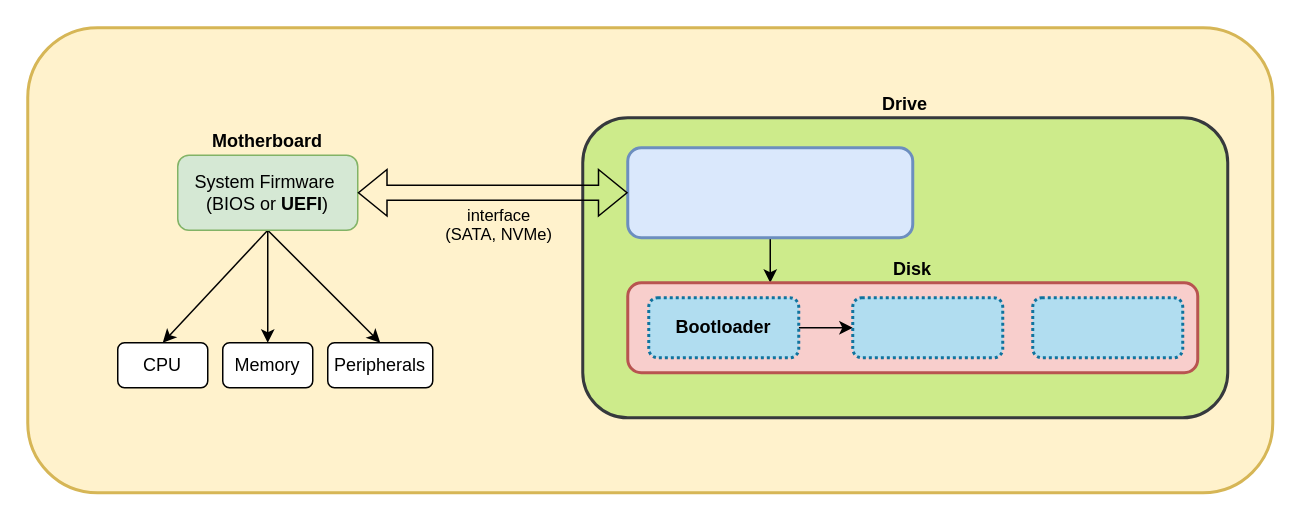
Some shapes in this 1299 by 519 pixel diagram are drawn without their labels. Each missing label, with the centre of its shape:
Controller (reads/writes data on disk): the point at 770,192
data: the point at 1107,327
Os (code): the point at 927,327
